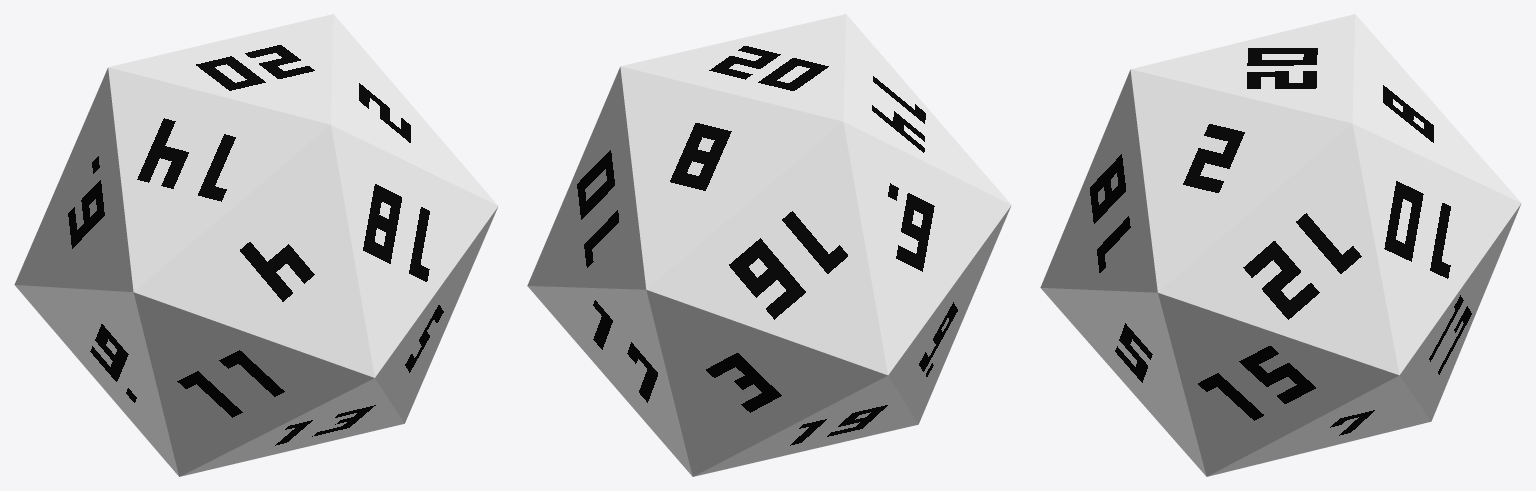
3 views of the same model, side by side, from view 1: azimuth 30°, elevation 25°; view 2: azimuth 150°, elevation 25°; view 3: azimuth 270°, elevation 25° (orthographic).
Parts seen in each view (by area): view 1: MeshBody1.001; view 2: MeshBody1.001; view 3: MeshBody1.001.
Boxes of the visible parts, left/top/right/bottom form: MeshBody1.001: left=14, top=14, right=498, bottom=476; MeshBody1.001: left=527, top=14, right=1011, bottom=476; MeshBody1.001: left=1040, top=14, right=1521, bottom=476.
Bounding box in the file's own units: 0.1998 × 0.1863 × 0.229.
